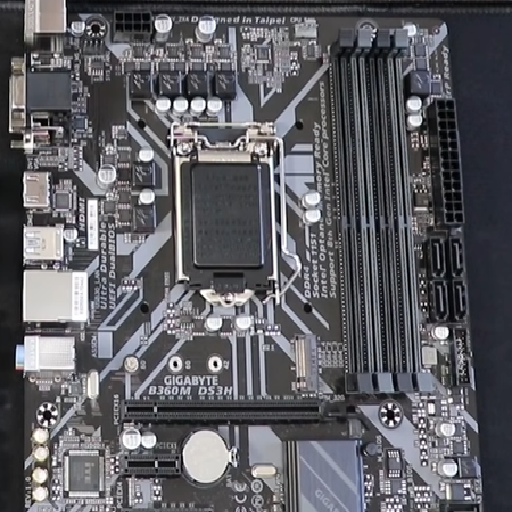CPU: (171, 119, 286, 300)
GPU: (117, 396, 328, 428)
MOTHERBOARD: (6, 2, 491, 512)
RAM: (322, 29, 436, 399)
SSD: (288, 332, 324, 395)
